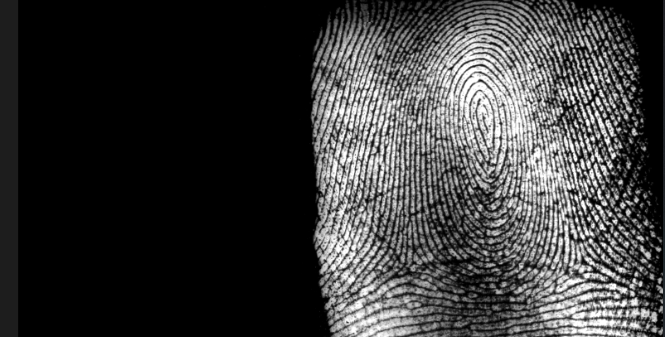nucelo: (473, 91, 490, 136)
verticilo: (573, 251, 599, 274), (395, 258, 423, 276)
